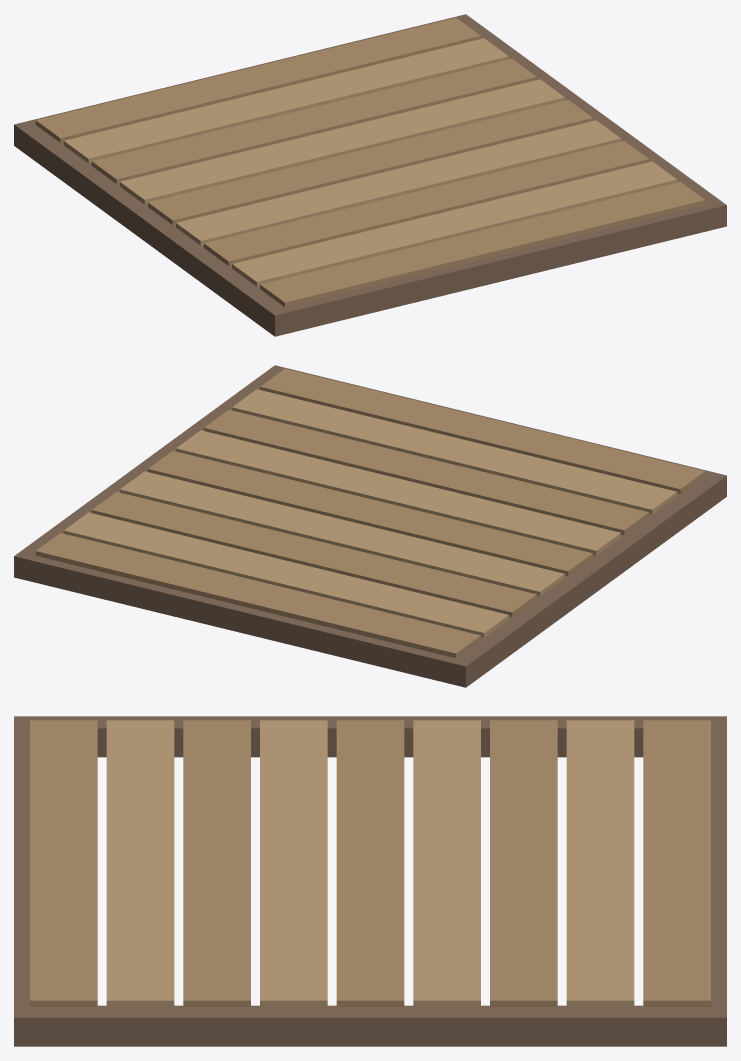
The model's file is floor.glb.
The picture shows the model from 3 angles, top to bottom: view 1: azimuth 30°, elevation 25°; view 2: azimuth 150°, elevation 25°; view 3: azimuth 270°, elevation 25°; orthographic projection. The views are drawn at different scales.
Visible parts, largest first — view 1: floor_1, floor_12, floor_4, floor_5, floor_6, floor_10, floor_11, floor_7, floor_9, floor_8, floor_2, floor_3 (+1 smaller); view 2: floor_0, floor_4, floor_12, floor_10, floor_11, floor_5, floor_6, floor_7, floor_9, floor_8, floor_2, floor_3 (+1 smaller); view 3: floor_3, floor_5, floor_8, floor_11, floor_4, floor_6, floor_7, floor_9, floor_10, floor_12, floor_2, floor_0 (+1 smaller).
Part boxes in pixels (x1=…): floor_1: x1=265, y1=197, x2=726, y2=336; floor_12: x1=260, y1=182, x2=705, y2=307; floor_4: x1=35, y1=17, x2=480, y2=142; floor_5: x1=63, y1=38, x2=508, y2=163; floor_6: x1=91, y1=59, x2=536, y2=183; floor_10: x1=204, y1=141, x2=649, y2=265; floor_11: x1=232, y1=161, x2=677, y2=286; floor_7: x1=120, y1=79, x2=564, y2=204; floor_9: x1=176, y1=120, x2=620, y2=245; floor_8: x1=148, y1=100, x2=592, y2=224; floor_2: x1=14, y1=120, x2=292, y2=335; floor_3: x1=449, y1=14, x2=726, y2=230; floor_0: x1=14, y1=548, x2=476, y2=687; floor_4: x1=35, y1=533, x2=480, y2=658; floor_12: x1=260, y1=368, x2=705, y2=493; floor_10: x1=204, y1=410, x2=649, y2=534; floor_11: x1=232, y1=389, x2=677, y2=514; floor_5: x1=63, y1=512, x2=508, y2=637; floor_6: x1=91, y1=492, x2=536, y2=616; floor_7: x1=120, y1=471, x2=564, y2=596; floor_9: x1=176, y1=430, x2=620, y2=555; floor_8: x1=148, y1=451, x2=592, y2=575; floor_2: x1=448, y1=471, x2=726, y2=686; floor_3: x1=14, y1=365, x2=290, y2=580; floor_3: x1=14, y1=1005, x2=726, y2=1046; floor_5: x1=566, y1=720, x2=634, y2=1006; floor_8: x1=336, y1=720, x2=404, y2=1006; floor_11: x1=106, y1=720, x2=174, y2=1006; floor_4: x1=643, y1=720, x2=710, y2=1006; floor_6: x1=490, y1=720, x2=557, y2=1006; floor_7: x1=413, y1=720, x2=480, y2=1006; floor_9: x1=260, y1=720, x2=327, y2=1006; floor_10: x1=183, y1=720, x2=250, y2=1006; floor_12: x1=30, y1=720, x2=97, y2=1006; floor_2: x1=14, y1=716, x2=726, y2=757; floor_0: x1=698, y1=716, x2=726, y2=1046.
Bounding box in the file's own units: 4 × 0.22 × 4.
